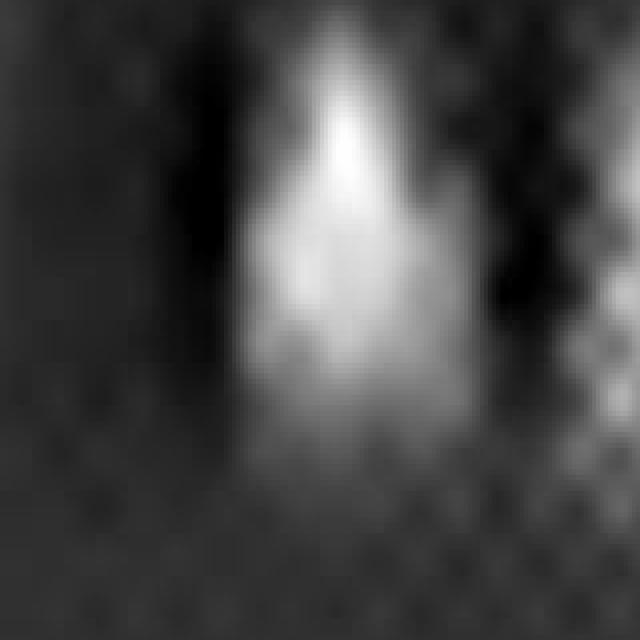person: (221, 1, 505, 518), (561, 17, 640, 566)
